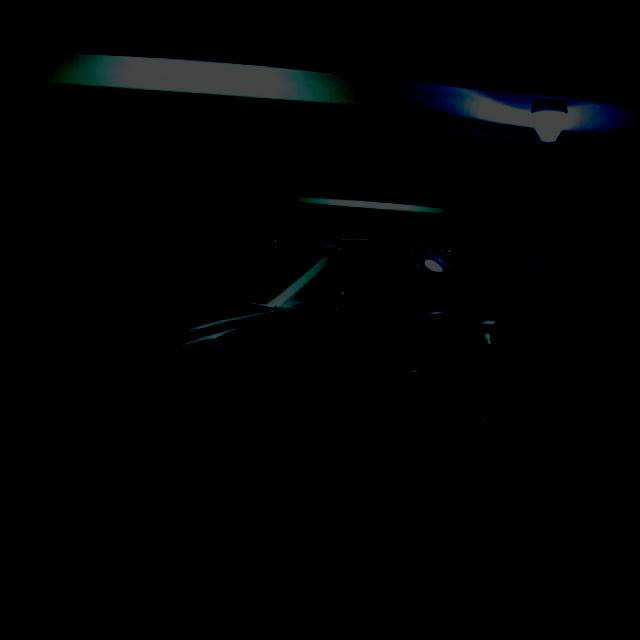Car: (77, 210, 523, 471)
